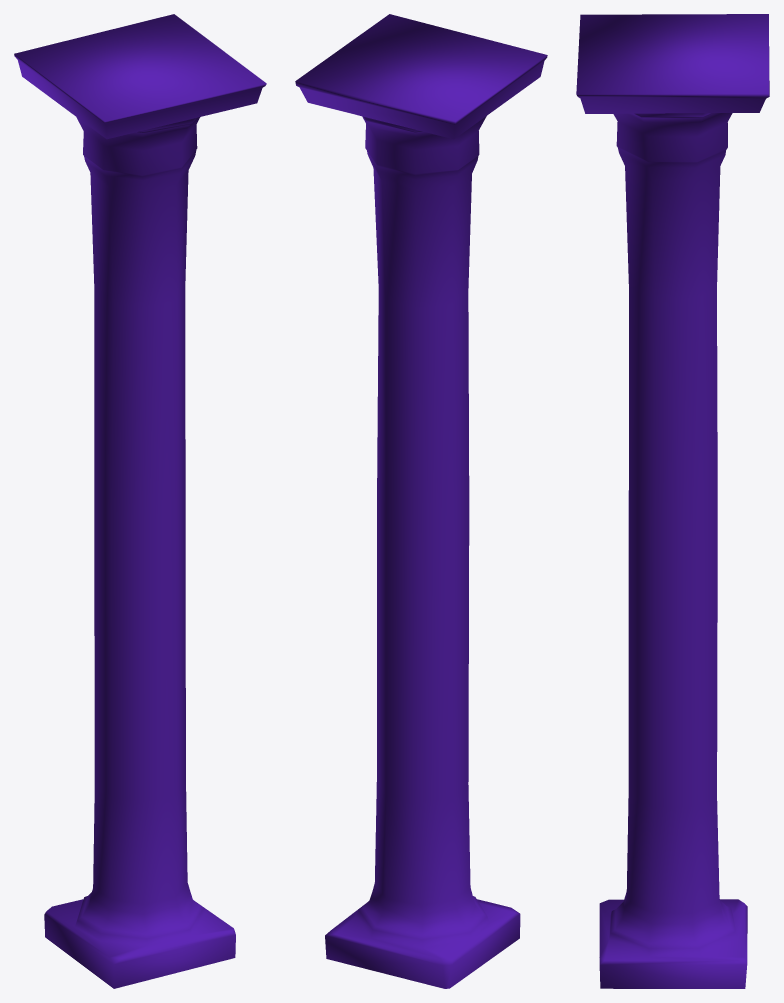
File: column_05.FBX
3 renders of one model, left to right at view 1: azimuth 30°, elevation 25°; view 2: azimuth 150°, elevation 25°; view 3: azimuth 270°, elevation 25°, orthographic. The views are drawn at different scales.
Parts seen in each view (by area): view 1: column_05; view 2: column_05; view 3: column_05.
Boxes of the visible parts, box(x1,y1,x2,y2) form: column_05: box(14, 14, 266, 988); column_05: box(295, 14, 547, 988); column_05: box(576, 14, 769, 988).
Size of the model in its own units: 19.61 by 103 by 19.85.
